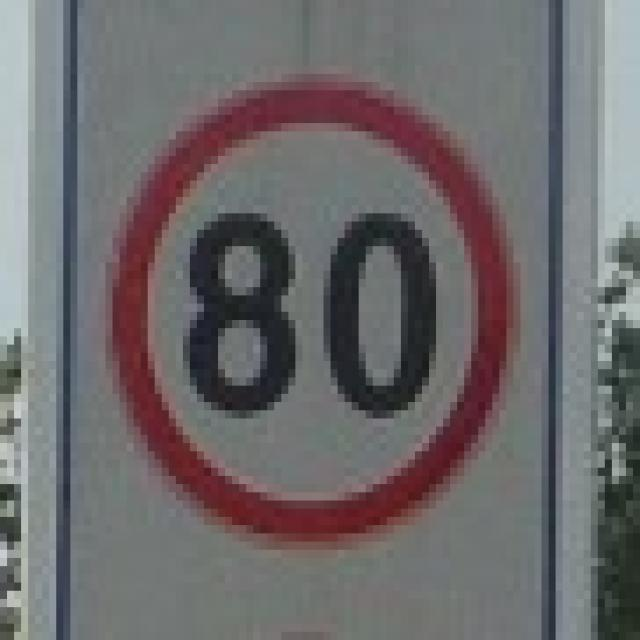Speed Limit -80-: (174, 207, 448, 423)
